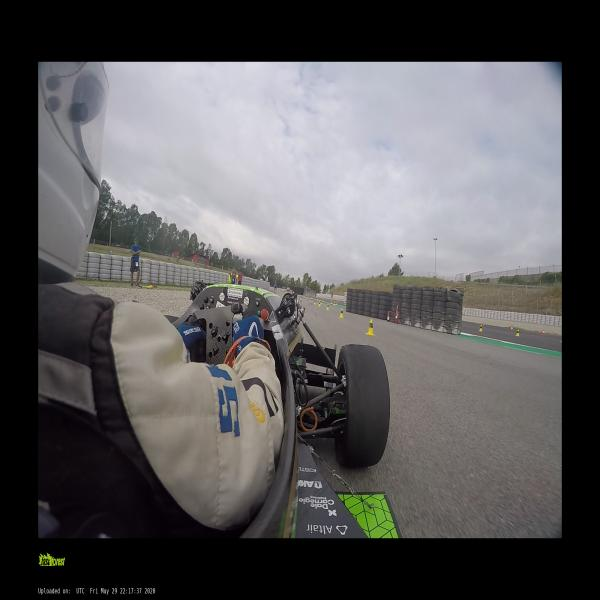orange_cone: (509, 326, 513, 332), (542, 329, 545, 336)
yellow_cone: (366, 320, 376, 335), (338, 308, 344, 318), (515, 330, 520, 337), (479, 324, 482, 332), (326, 304, 329, 311), (318, 301, 320, 307), (314, 300, 316, 305), (320, 300, 322, 304)
